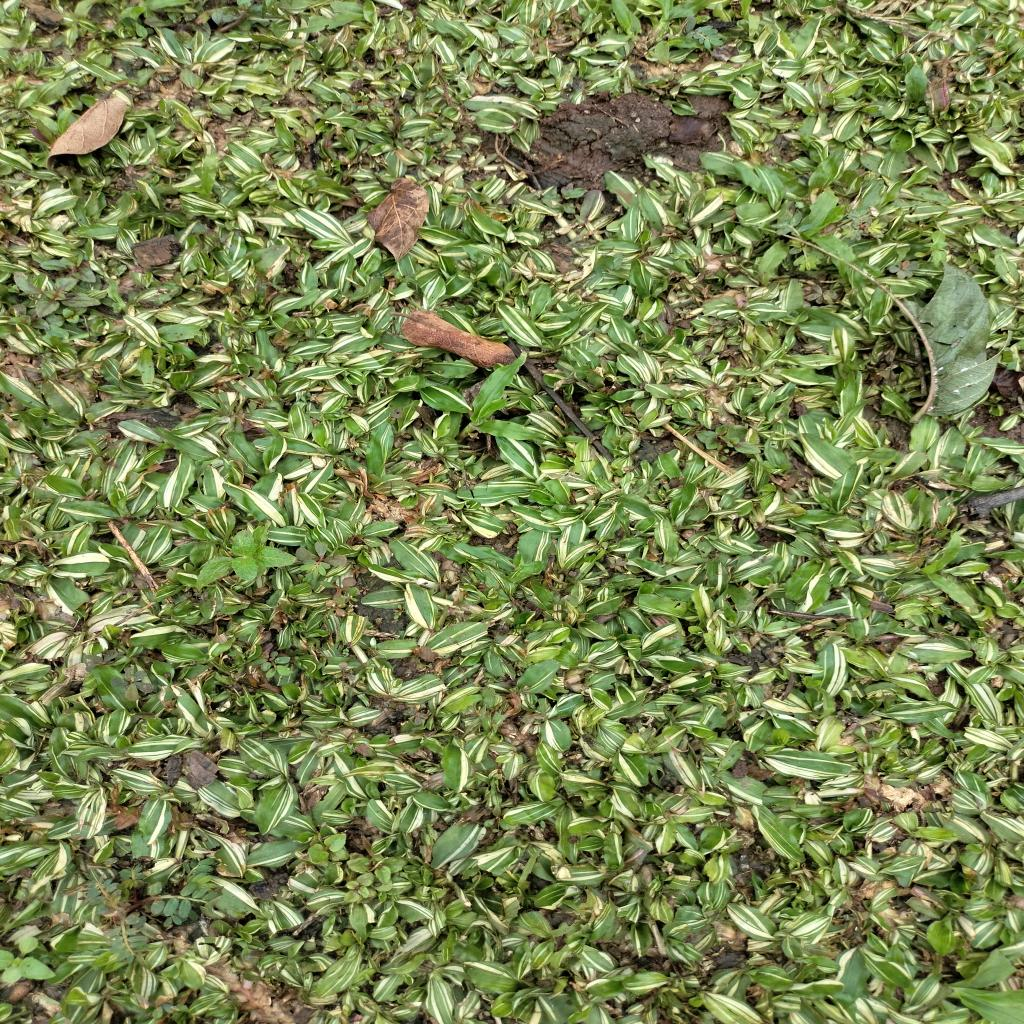bayi: (159, 406, 180, 417), (538, 818, 548, 830), (340, 647, 351, 657)
buah daun: (85, 863, 226, 964), (774, 207, 827, 271), (289, 536, 352, 582), (837, 204, 890, 243), (108, 663, 158, 703), (682, 14, 728, 51), (76, 648, 122, 674), (884, 254, 922, 284), (402, 704, 430, 727)
gingseng jawa: (320, 576, 365, 620)
rambat bawah: (461, 352, 554, 449), (938, 949, 1024, 1024), (916, 530, 984, 616), (176, 152, 222, 200)
tunggang besar: (195, 526, 300, 589)
tunggang tengah: (256, 650, 298, 682)
ungu tunggang: (16, 272, 103, 316), (694, 424, 766, 461), (347, 853, 410, 885), (542, 181, 589, 215), (308, 830, 352, 864), (336, 873, 378, 905)
